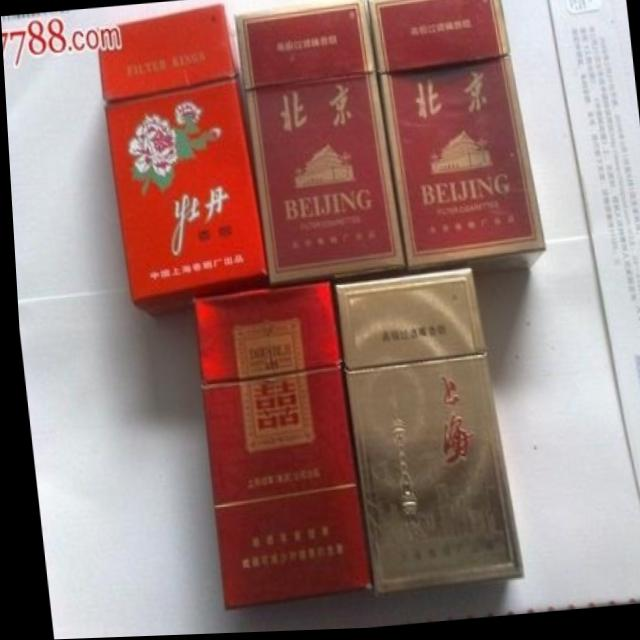box: (331, 270, 518, 599), (188, 283, 364, 611), (96, 7, 265, 321), (367, 0, 544, 282), (235, 0, 403, 290)
